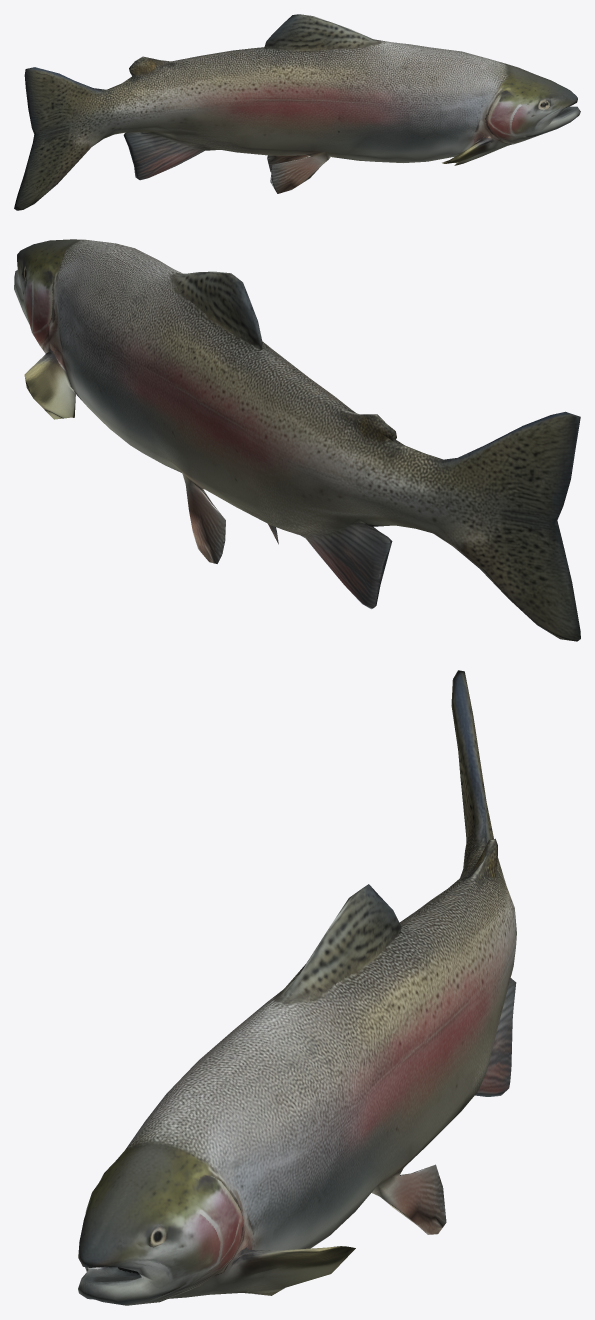
File: salmon_single_1500.glb
The picture shows the model from 3 angles, top to bottom: view 1: azimuth 30°, elevation 25°; view 2: azimuth 150°, elevation 25°; view 3: azimuth 270°, elevation 25°; orthographic projection. The views are drawn at different scales.
Bounding box in the file's own units: 0.8706 × 0.3075 × 0.3529.
Materials: 1 (1 with a texture image).
